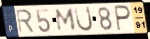5: (35, 8, 52, 33)
8: (97, 6, 113, 31)
M: (55, 8, 77, 33)
P: (114, 4, 132, 33)
R: (15, 9, 36, 35)
U: (73, 6, 94, 33)
